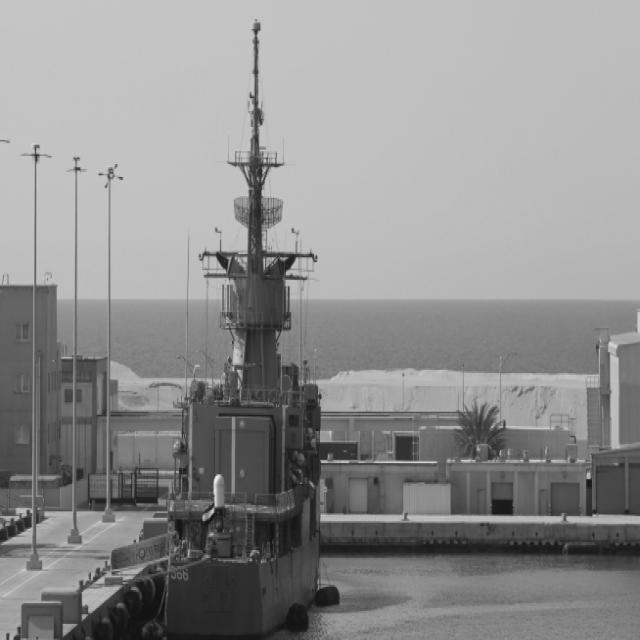Fragata: (154, 1, 327, 640)
